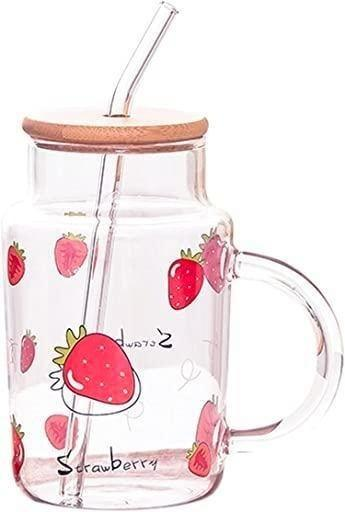glass-mug: (2, 98, 345, 512)
